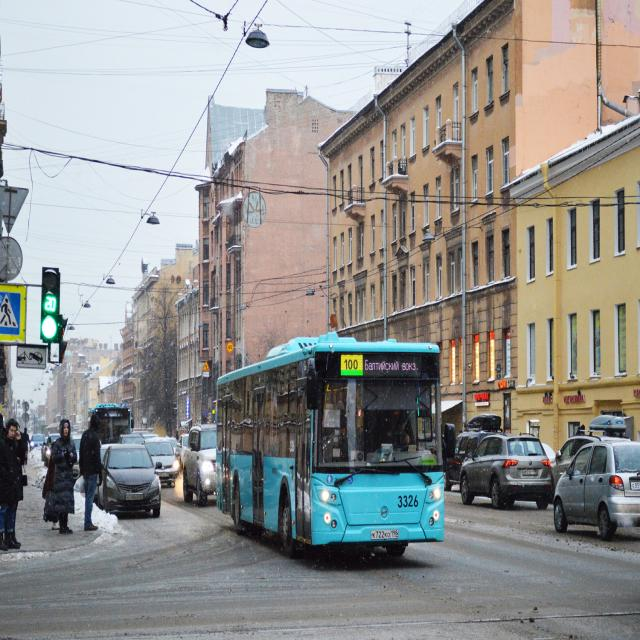number-of-bus: (344, 357, 361, 375)
